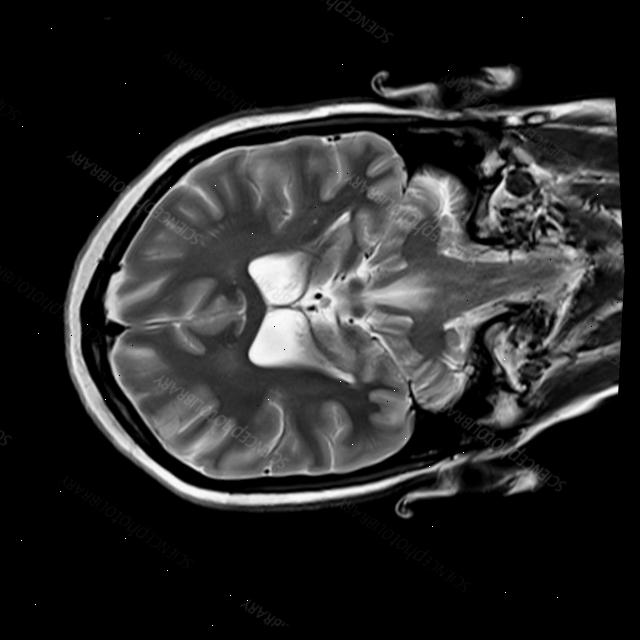NoTumor: (32, 80, 511, 539)
